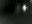person: (14, 4, 22, 17), (23, 4, 28, 16)
